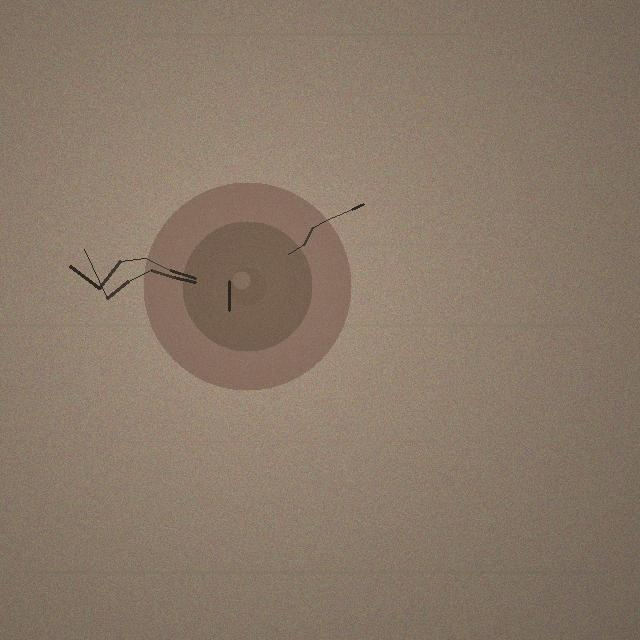crack: (143, 182, 351, 390)
